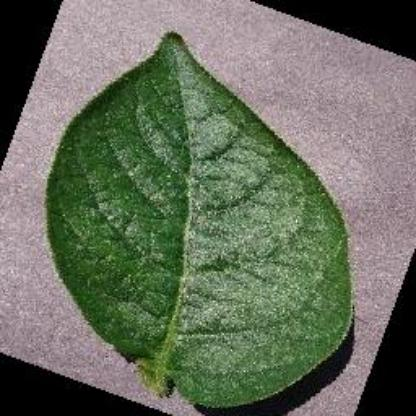Healthy-plant: (43, 28, 356, 408)
